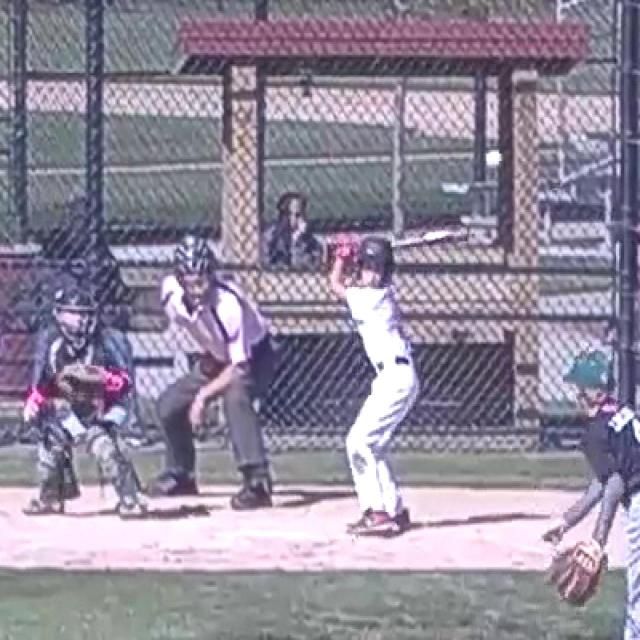baseball: (486, 151, 502, 166)
